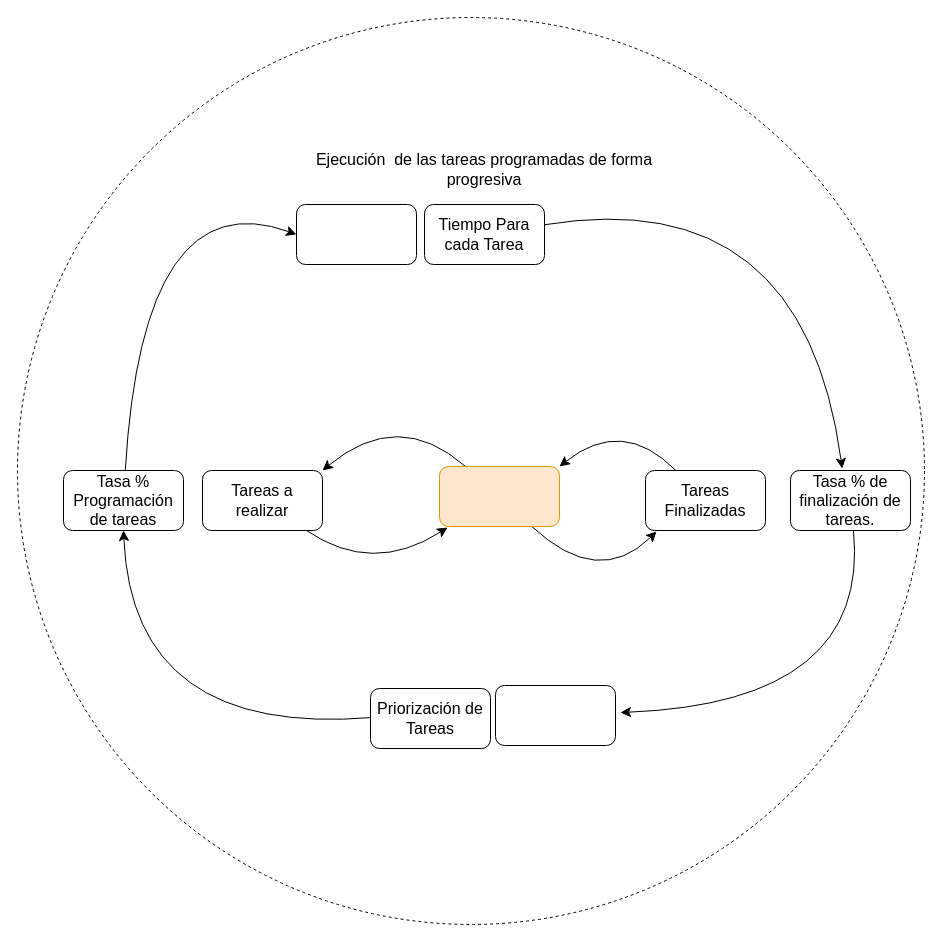
The diagram is 942 pixels wide and 942 high, and some of its shapes have lost their labels. The shapes that lost their labels are listed below. From the top down, each one's box as (x1, y1, x2, y2) in pixels, then its label:
(296, 204, 416, 264): Tipo de tarea
(438, 466, 560, 526): Ejecución de tareas
(494, 684, 616, 746): Total de tareas programadas
